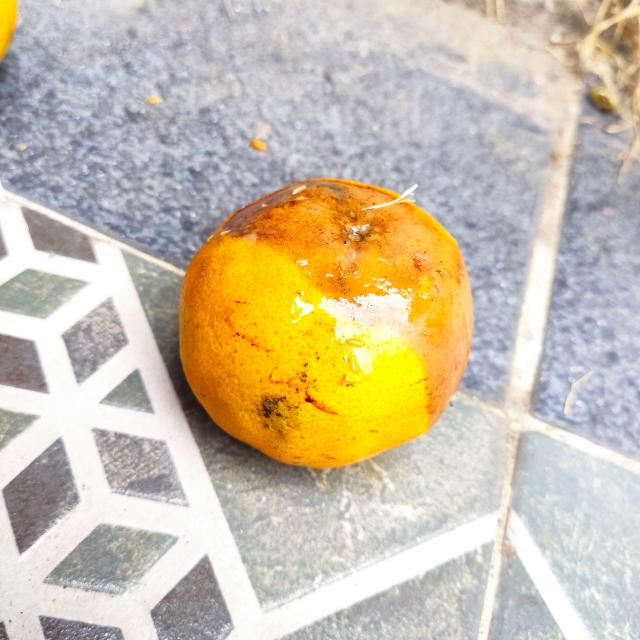orange: (176, 176, 477, 469)
